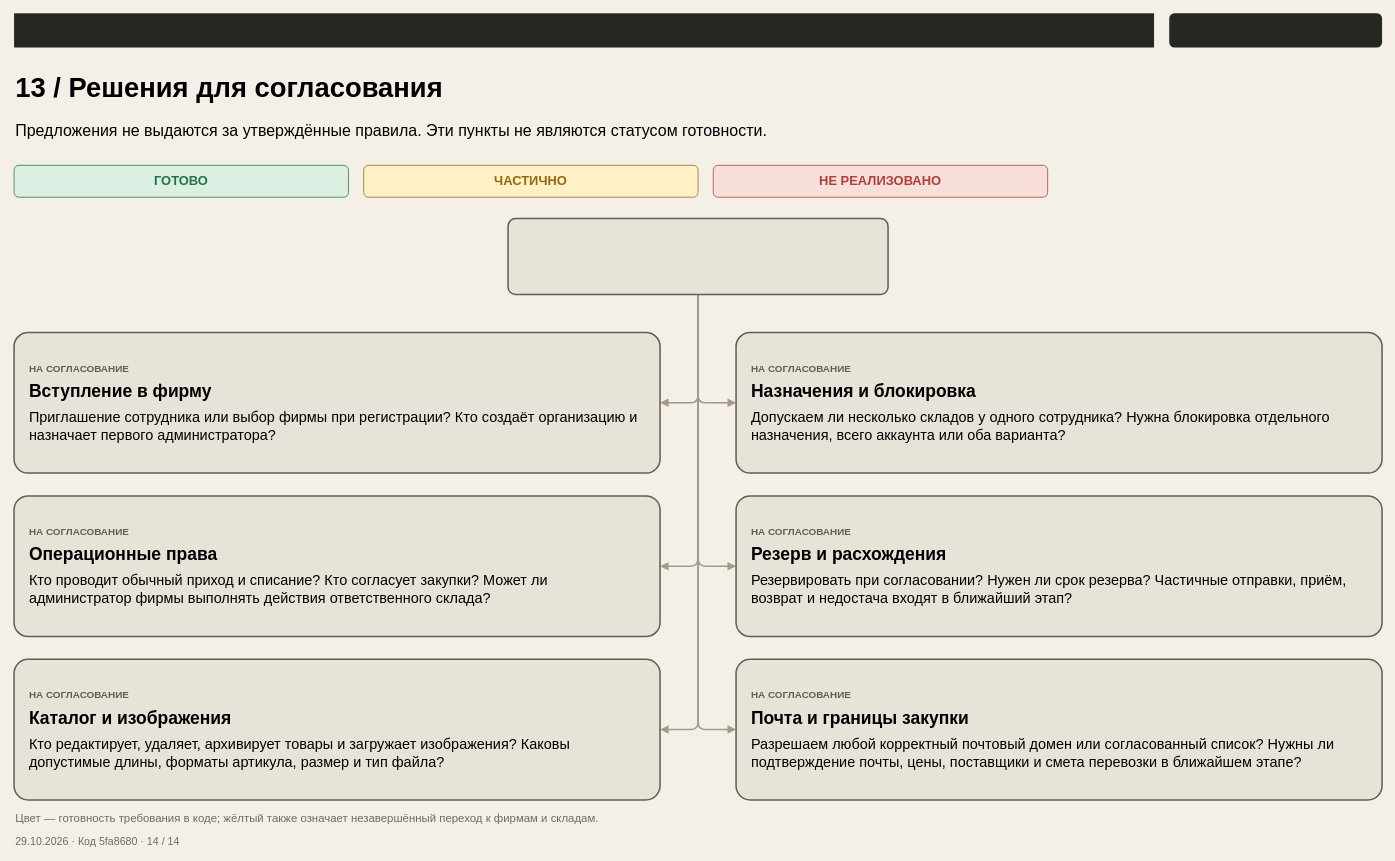
This 1395x861 diagram has some shape labels left out. The shapes that lost their labels are listed below. From the top down, each one's centre as x and y in pixels, then its label:
point (584, 30): СЕКЦИЯ / ТЕХНИЧЕСКОЕ ЗАДАНИЕ · РЕДАКЦИЯ 2
point (1275, 30): ← Общая карта
point (697, 256): Обсуждение с командой Согласовать до изменения структуры данных
